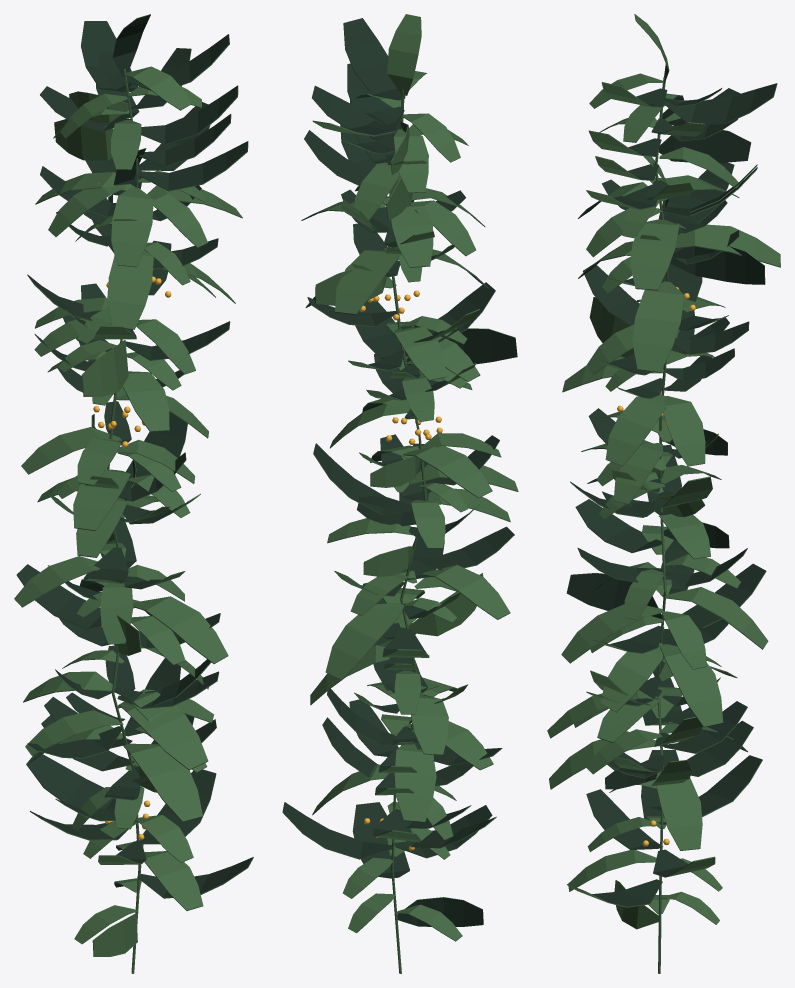
The model's file is seetang_leuchtend.FBX.
3 renders of one model, left to right at view 1: azimuth 30°, elevation 25°; view 2: azimuth 150°, elevation 25°; view 3: azimuth 270°, elevation 25°, orthographic.
Visible parts, largest first — view 1: blatt_080, seetang_stiel_001; view 2: blatt_080, seetang_stiel_001; view 3: blatt_080, seetang_stiel_001.
Part boxes in pixels (<box>): blatt_080: <box>14,14,253,956</box>; seetang_stiel_001: <box>107,69,141,973</box>; blatt_080: <box>282,14,518,941</box>; seetang_stiel_001: <box>388,89,427,973</box>; blatt_080: <box>547,14,780,929</box>; seetang_stiel_001: <box>655,77,668,973</box>.
Size of the model in its own units: 7.15 by 30.94 by 6.86.
